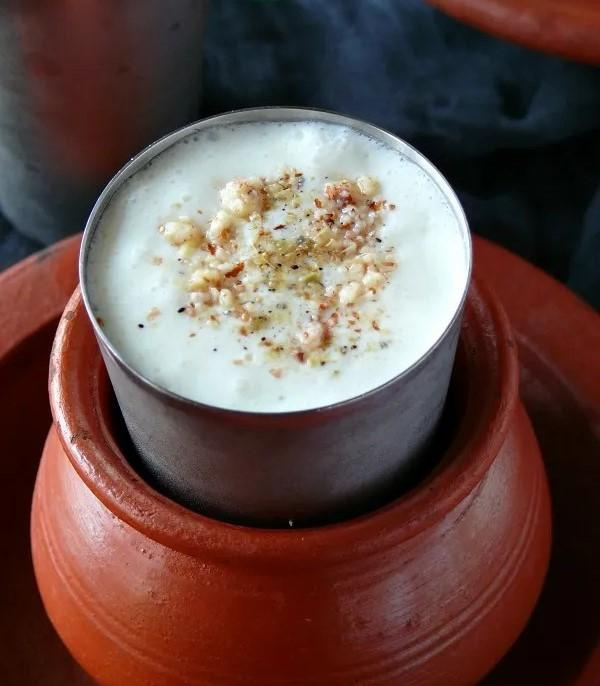Lassi: (84, 121, 470, 412)
